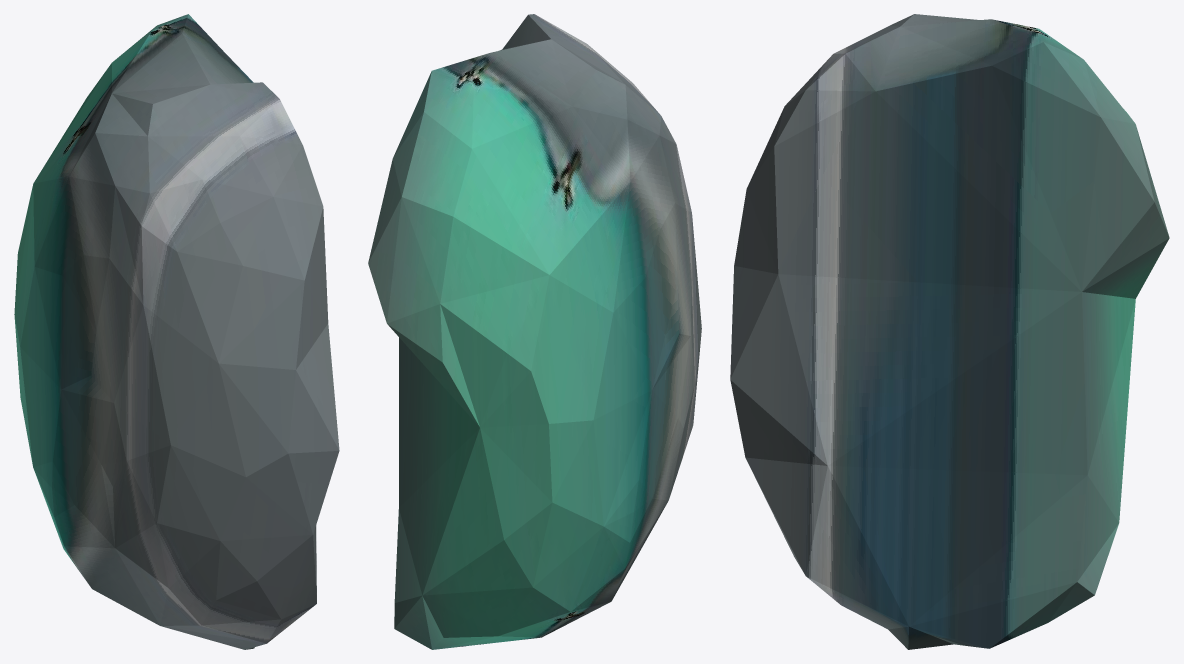
3 renders of one model, left to right at view 1: azimuth 30°, elevation 25°; view 2: azimuth 150°, elevation 25°; view 3: azimuth 270°, elevation 25°, orthographic. The views are drawn at different scales.
Visible parts, largest first — view 1: Renderer Node; view 2: Renderer Node; view 3: Renderer Node.
Part boxes in pixels (x1,y1,x2,y2): Renderer Node: (14,14,339,649); Renderer Node: (368,14,701,649); Renderer Node: (730,14,1169,649).
Bounding box in the file's own units: 0.1374 × 0.4016 × 0.2601.
Materials: 1 (1 with a texture image).
